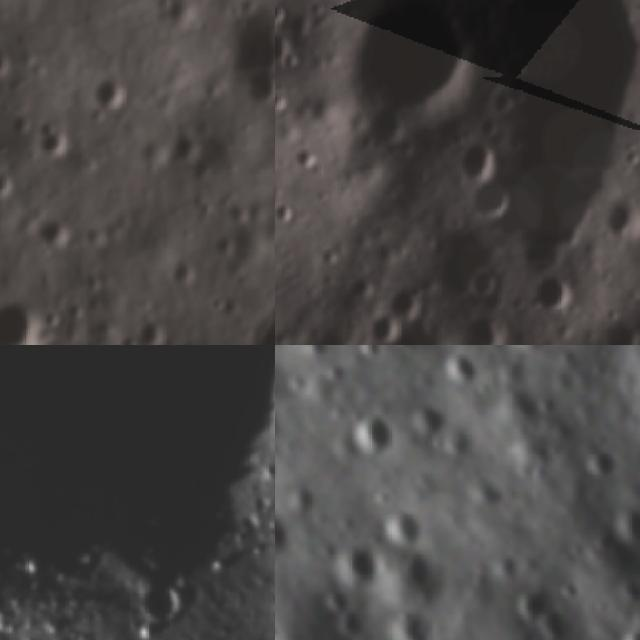crater: (344, 0, 481, 124), (214, 1, 275, 89), (495, 580, 578, 640), (381, 500, 436, 558), (345, 411, 400, 466), (373, 309, 457, 345), (461, 174, 519, 225), (452, 129, 499, 187), (136, 580, 185, 634), (167, 118, 210, 172), (406, 406, 454, 454), (0, 296, 47, 345), (579, 444, 626, 493), (82, 67, 128, 116), (599, 191, 640, 244), (528, 270, 575, 316), (36, 209, 82, 255), (32, 118, 75, 166), (441, 348, 489, 390), (338, 541, 382, 586), (385, 606, 442, 640), (461, 306, 507, 345), (132, 304, 175, 345), (384, 280, 422, 320), (318, 580, 358, 618), (461, 264, 502, 301), (342, 345, 397, 370), (611, 506, 640, 552), (0, 32, 24, 87), (325, 611, 368, 640), (600, 314, 640, 345), (608, 605, 640, 640), (0, 158, 18, 211), (275, 24, 293, 66), (0, 606, 19, 640), (511, 345, 554, 359), (275, 0, 290, 28)
